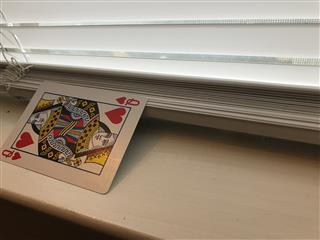QueenOfHearts: (1, 81, 149, 195)
